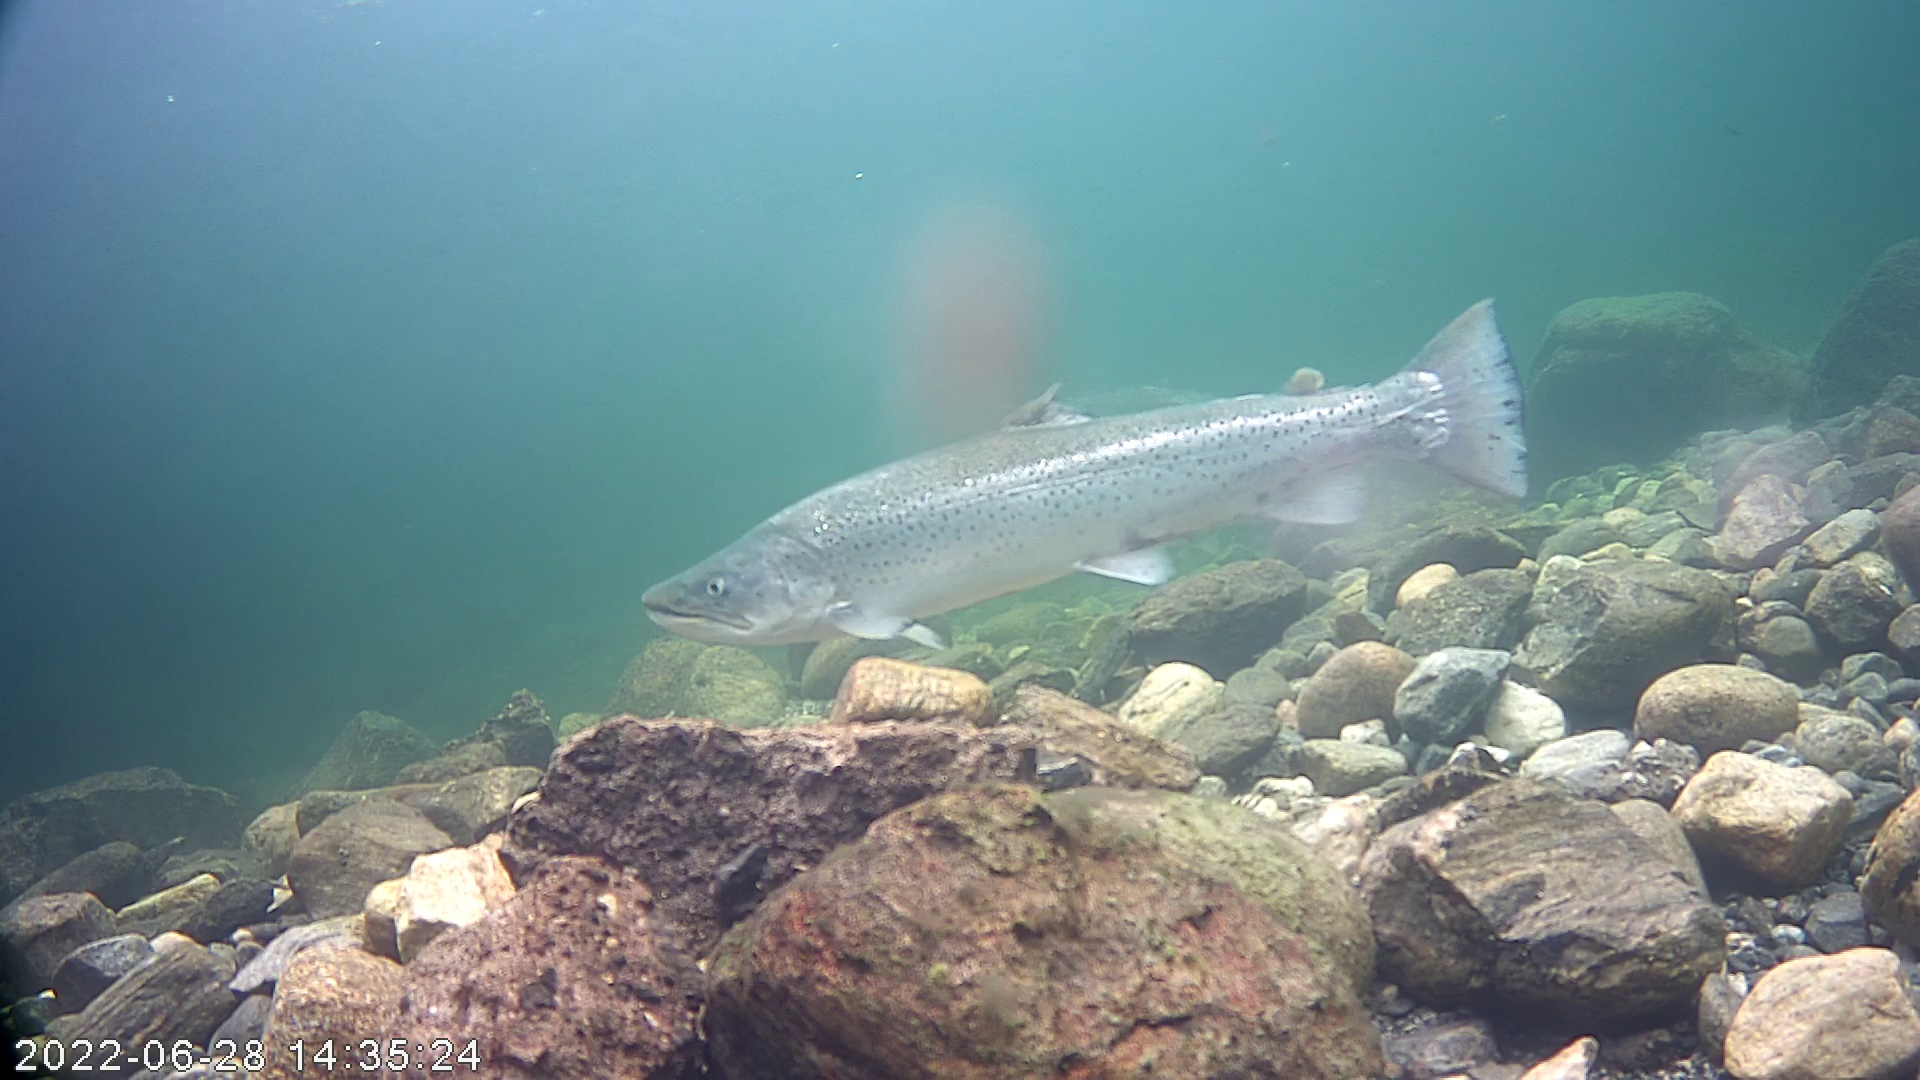salmon: (650, 218, 1565, 679)
